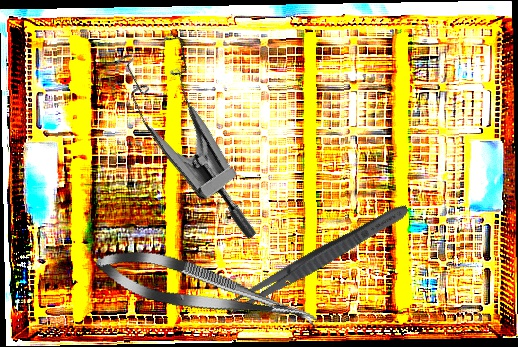Dressing Forceps: (221, 198, 413, 322)
Micro Scissor: (90, 238, 324, 343)
Speculum: (85, 16, 320, 242)
